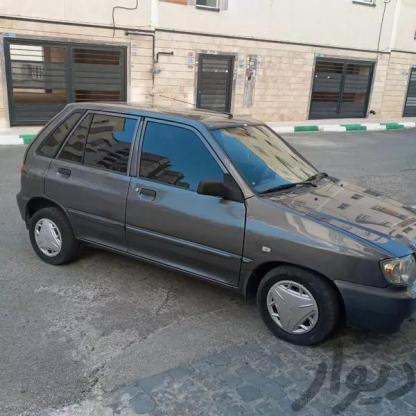Car: (0, 94, 416, 362)
